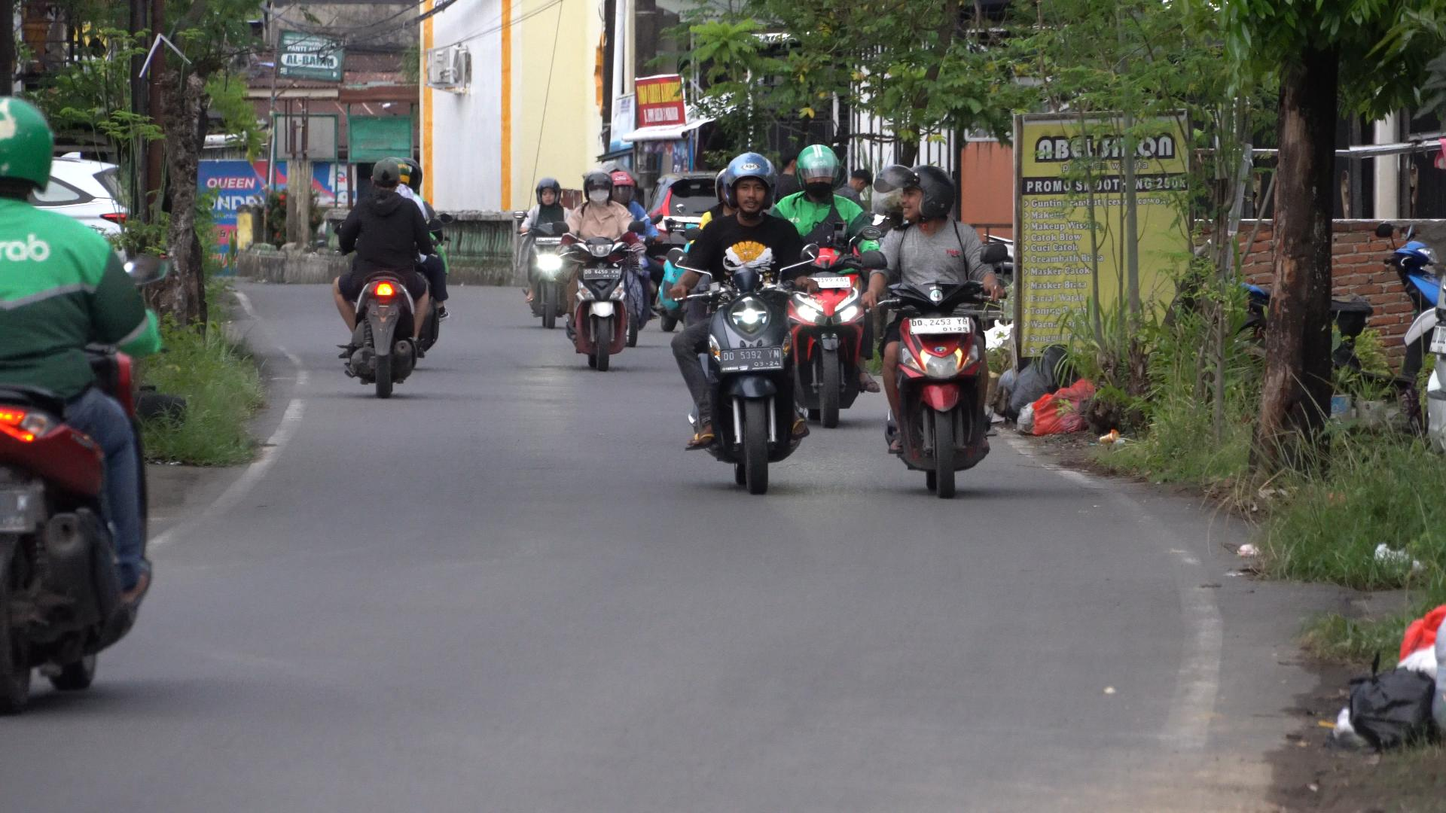number-plate: (721, 344, 783, 374), (908, 318, 972, 335), (583, 267, 620, 282)
